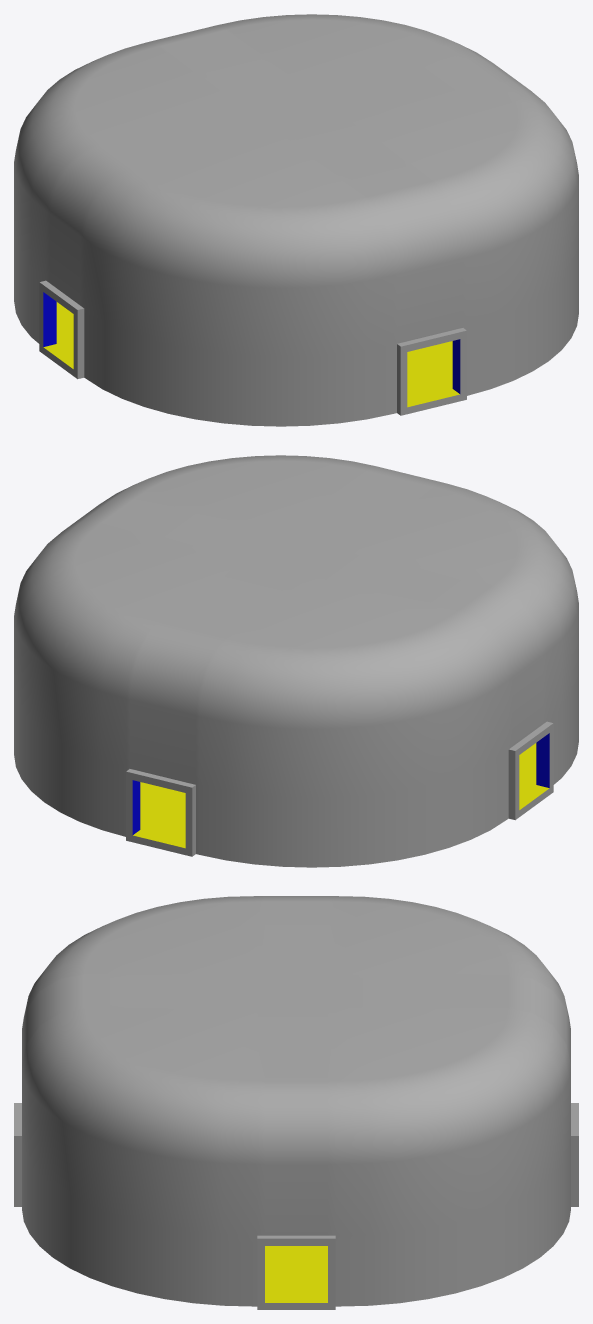
Rendered from Storage Room.fbx.
3 renders of one model, top to bottom at view 1: azimuth 30°, elevation 25°; view 2: azimuth 150°, elevation 25°; view 3: azimuth 270°, elevation 25°, orthographic. The views are drawn at different scales.
Parts seen in each view (by area): view 1: Storage_Room; view 2: Storage_Room; view 3: Storage_Room.
Boxes of the visible parts, x1=… form: Storage_Room: x1=14, y1=14, x2=578, y2=426; Storage_Room: x1=14, y1=455, x2=578, y2=867; Storage_Room: x1=14, y1=896, x2=578, y2=1309.
Bounding box in the file's own units: 36 × 14 × 36.
